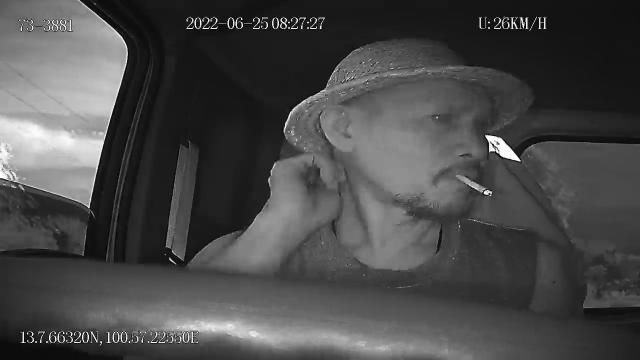Smoking: (454, 171, 494, 199)
